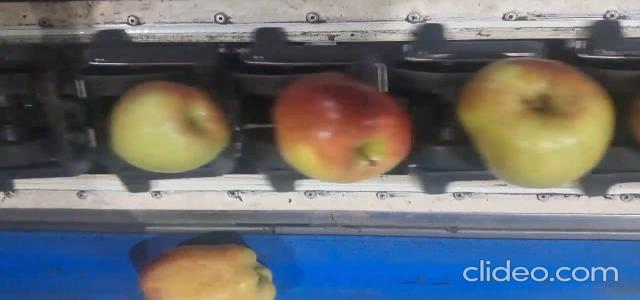apple: (458, 59, 615, 188), (272, 72, 411, 182), (110, 82, 230, 172)
